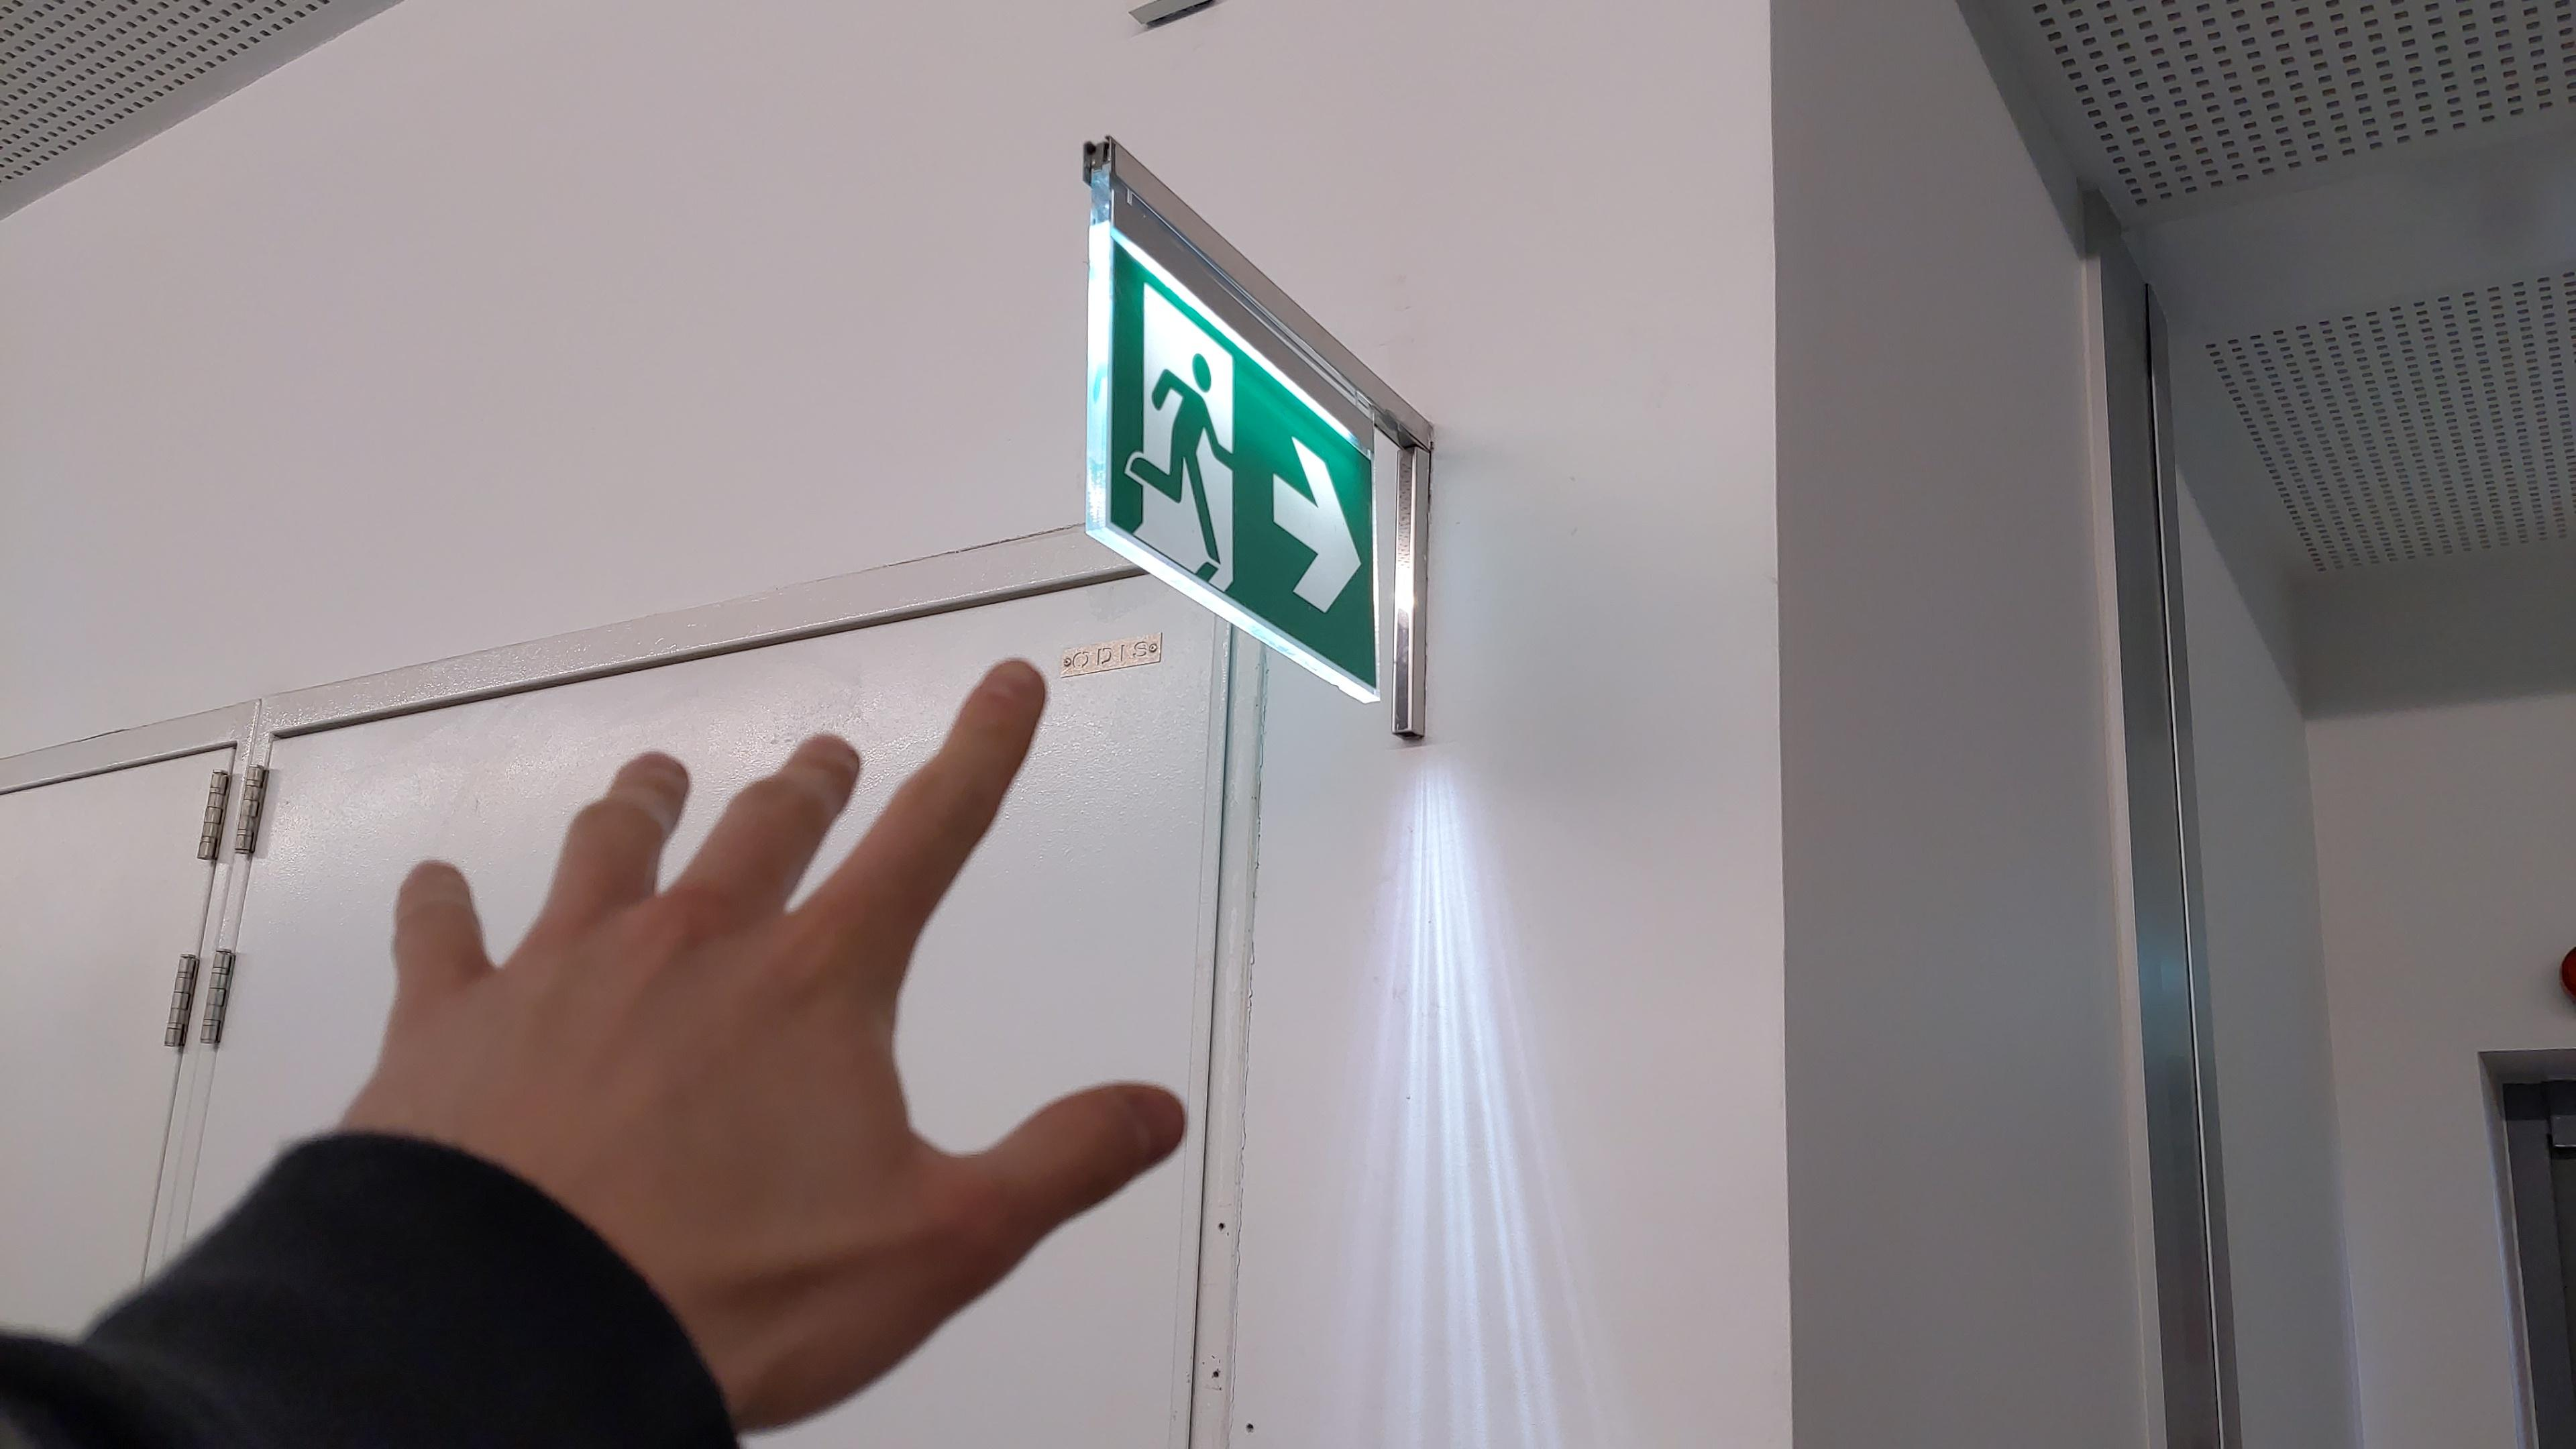emergency exit: (1123, 264, 1247, 593)
emergency right arrow: (1263, 433, 1364, 617)
